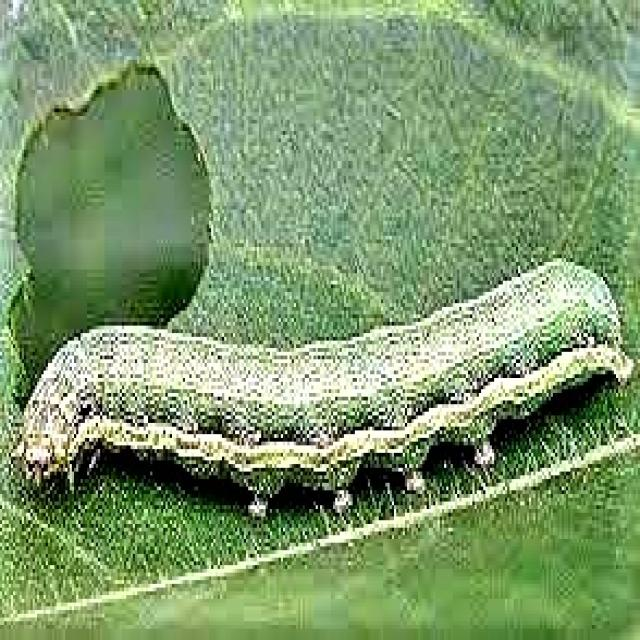armyworm: (9, 251, 634, 516)
